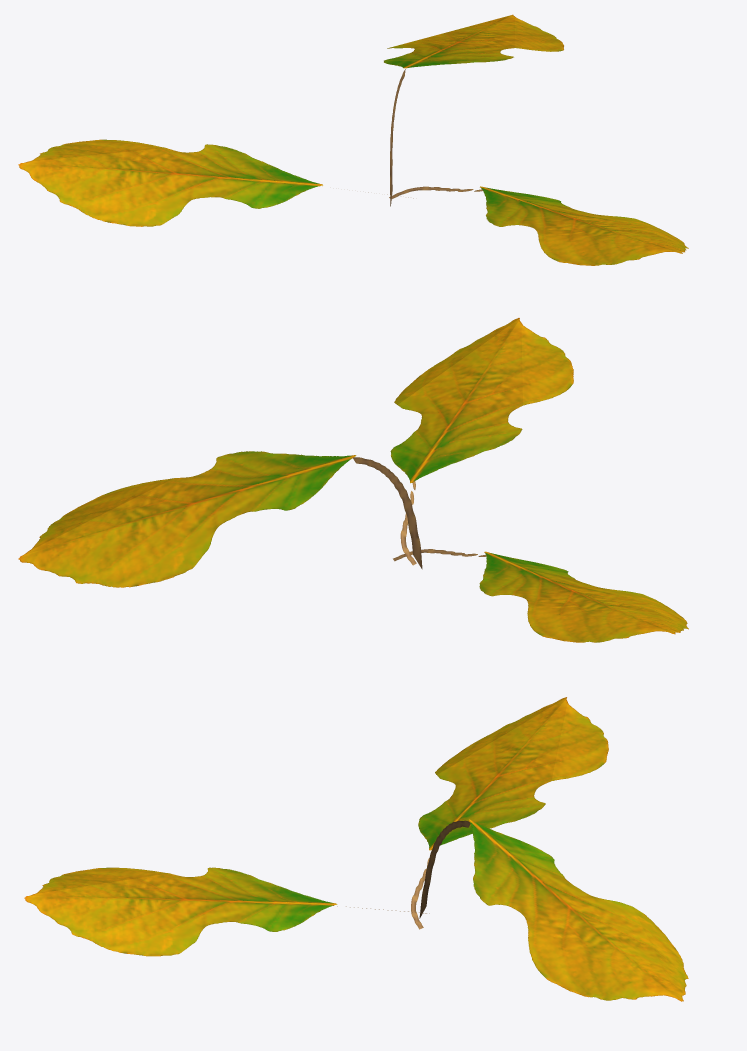
File: Row Root A1.fbx
The picture shows the model from 3 angles, top to bottom: view 1: azimuth 30°, elevation 25°; view 2: azimuth 150°, elevation 25°; view 3: azimuth 270°, elevation 25°; orthographic projection. The views are drawn at different scales.
Parts seen in each view (by area): view 1: Row Root A1; view 2: Row Root A1; view 3: Row Root A1.
Part boxes in pixels (x1,y1,x2,y2): Row Root A1: (18,14,688,265); Row Root A1: (18,318,688,642); Row Root A1: (24,697,688,1001).
Size of the model in its own units: 181 by 39 by 173.
